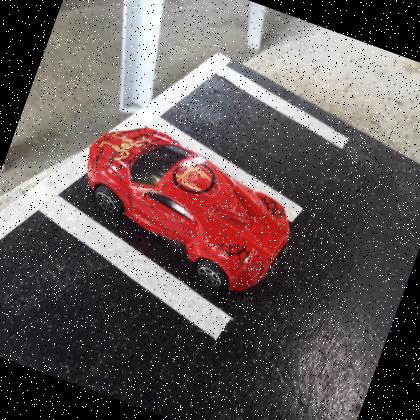Car: (87, 127, 289, 294)
